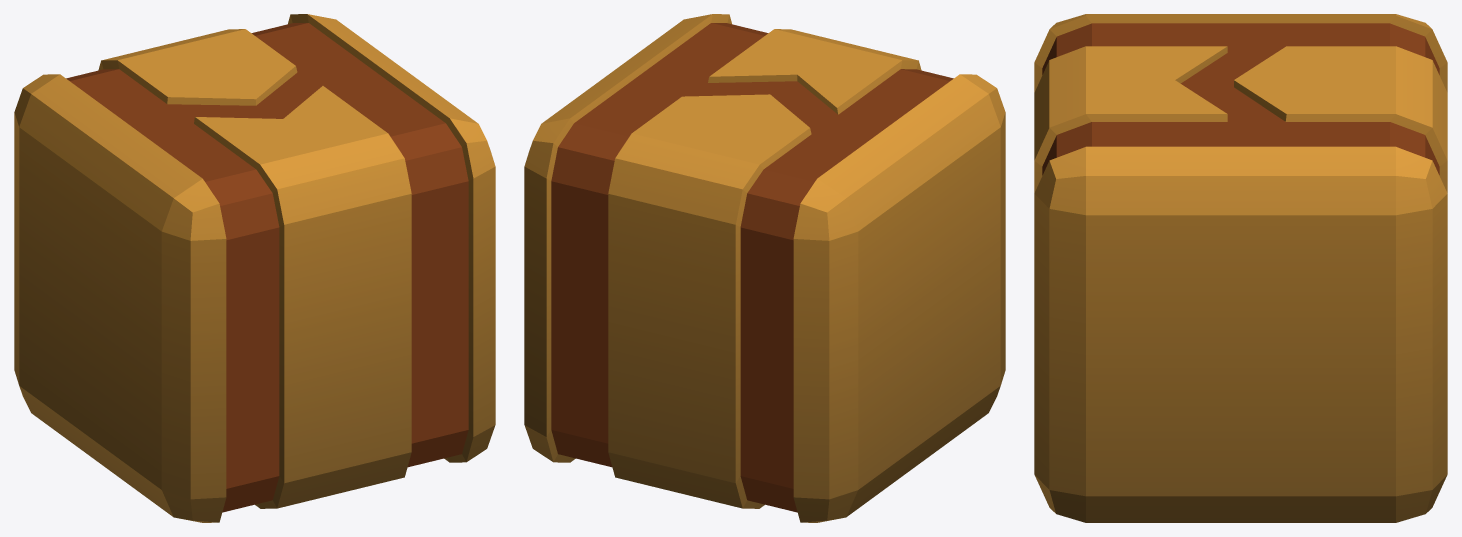
File: Tile_Snake_Lane_Gold.fbx
3 views of the same model, side by side, from view 1: azimuth 30°, elevation 25°; view 2: azimuth 150°, elevation 25°; view 3: azimuth 270°, elevation 25° (orthographic). The views are drawn at different scales.
Parts seen in each view (by area): view 1: Jalur Ular Lurus Emas; view 2: Jalur Ular Lurus Emas; view 3: Jalur Ular Lurus Emas.
Boxes of the visible parts, x1,y1,x2,y2 form: Jalur Ular Lurus Emas: (14,14,495,522); Jalur Ular Lurus Emas: (524,14,1005,522); Jalur Ular Lurus Emas: (1034,14,1447,522).
Bounding box in the file's own units: 1 × 1 × 1.
Materials: 1 (1 with a texture image).
